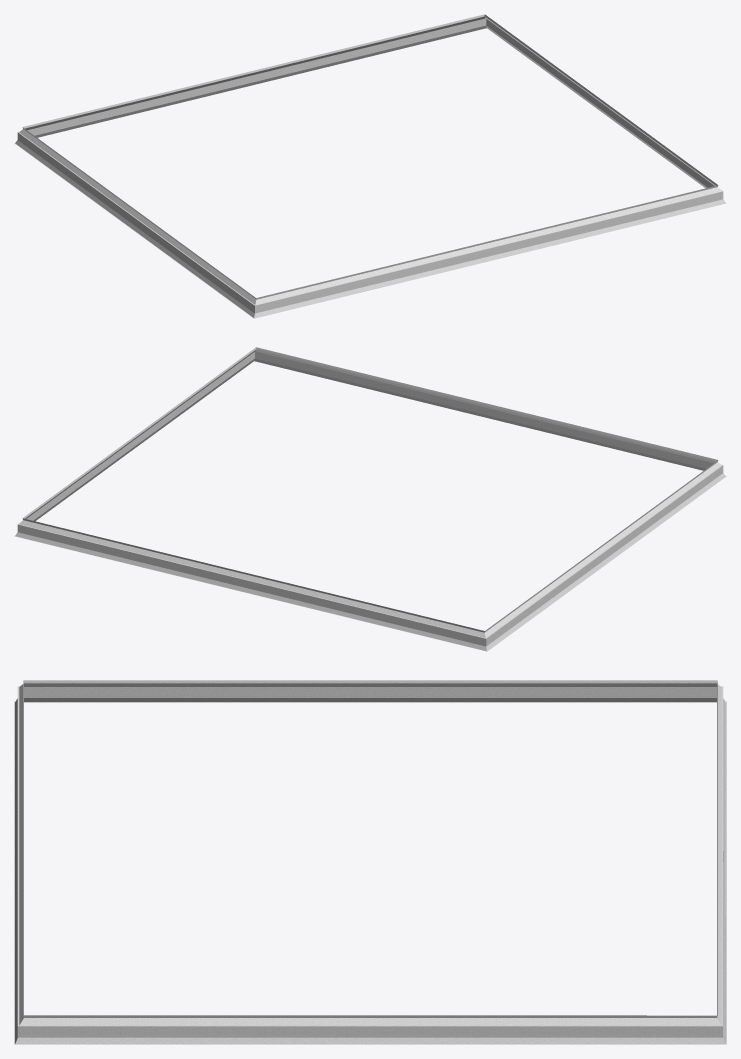
The model's file is shigaoxian06.fbx.
The picture shows the model from 3 angles, top to bottom: view 1: azimuth 30°, elevation 25°; view 2: azimuth 150°, elevation 25°; view 3: azimuth 270°, elevation 25°; orthographic projection. The views are drawn at different scales.
Parts seen in each view (by area): view 1: shigaoxian06; view 2: shigaoxian06; view 3: shigaoxian06.
Part boxes in pixels (left/top/right/bottom): shigaoxian06: left=14, top=14, right=726, bottom=318; shigaoxian06: left=14, top=347, right=726, bottom=651; shigaoxian06: left=14, top=680, right=726, bottom=1044.
Size of the model in its own units: 451 by 15.59 by 396.
